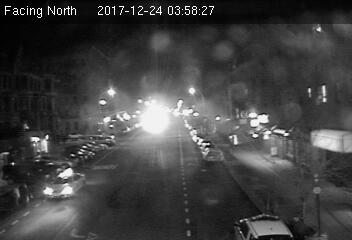car: (42, 168, 85, 198), (202, 148, 223, 163)
police: (225, 208, 293, 240)
